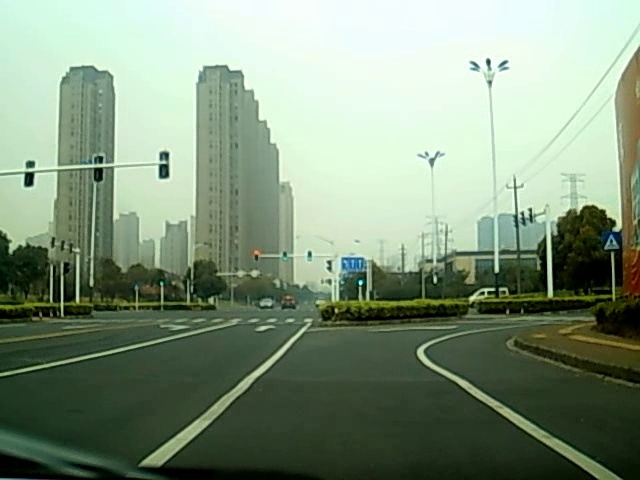Traffic_Light_go: (282, 250, 288, 262), (307, 250, 313, 262)
Traffic_Light_stop: (252, 248, 260, 262)
